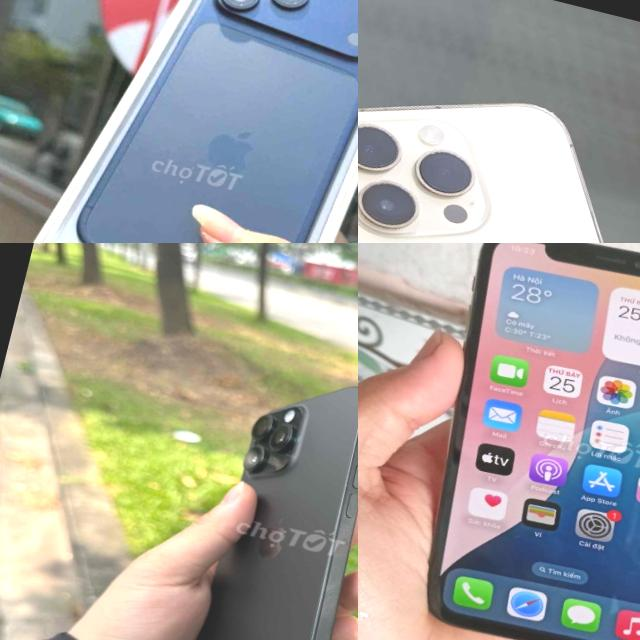gen_14: (358, 51, 640, 243)
gen_16: (153, 346, 358, 640)
gen_17: (60, 0, 358, 243)
gen_x_xs: (427, 243, 640, 640)
